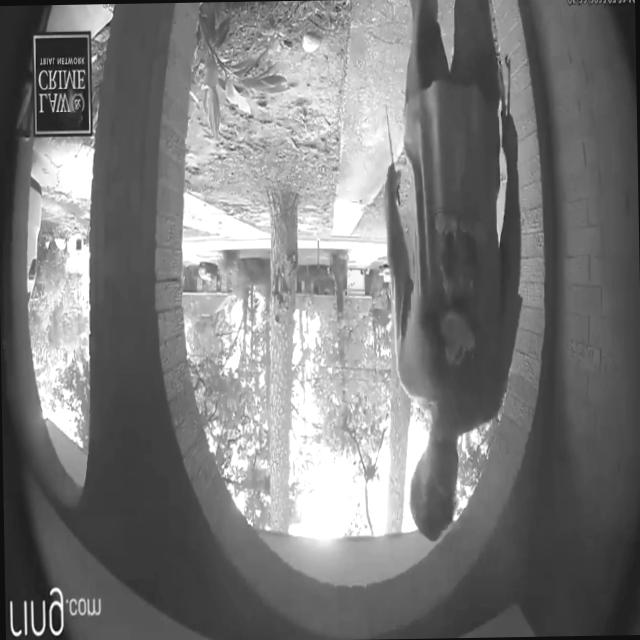weapon: (375, 0, 525, 521)
